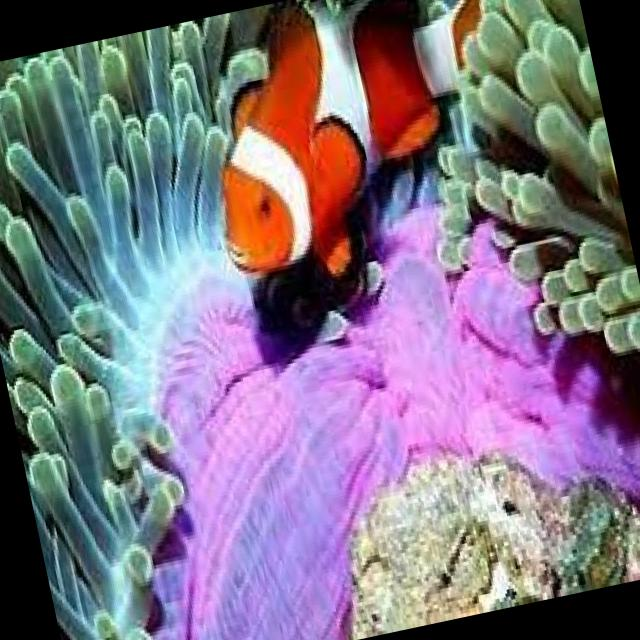ClownFish: (177, 0, 540, 282)
